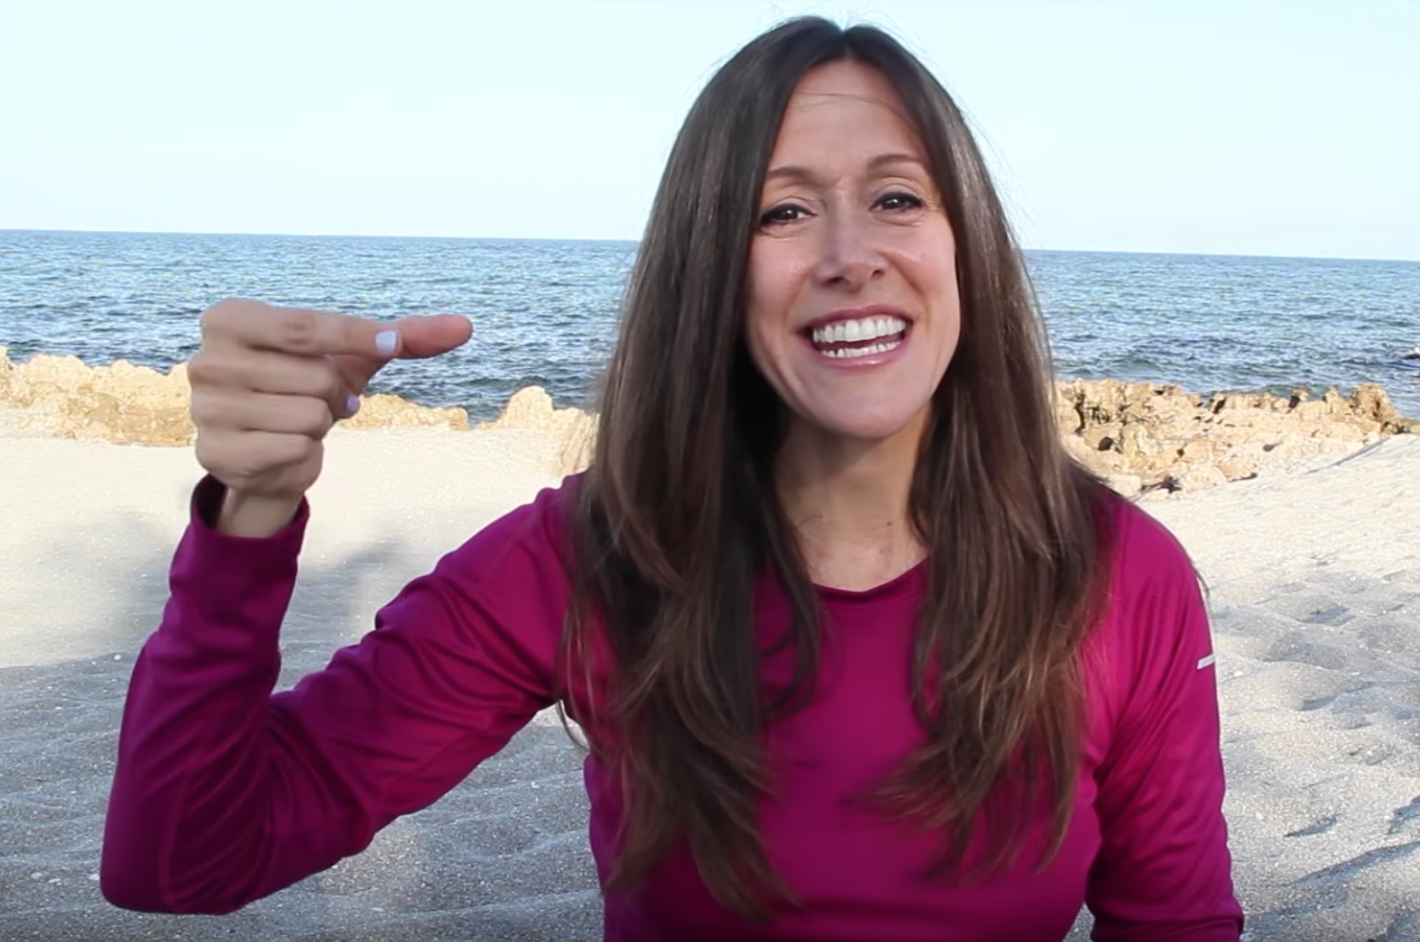g: (164, 284, 495, 550)
